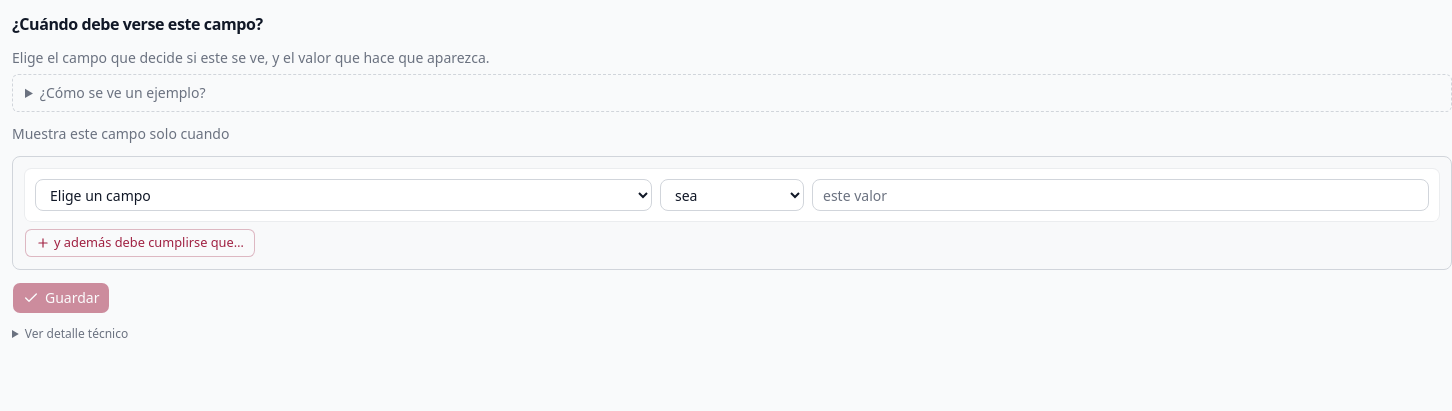
Test case: lee la regla armada como una frase, para poder comprobarla
Select "Estado" in the dropdown named "campo de la condición 1" at point(344, 195), box [35, 179, 652, 211]
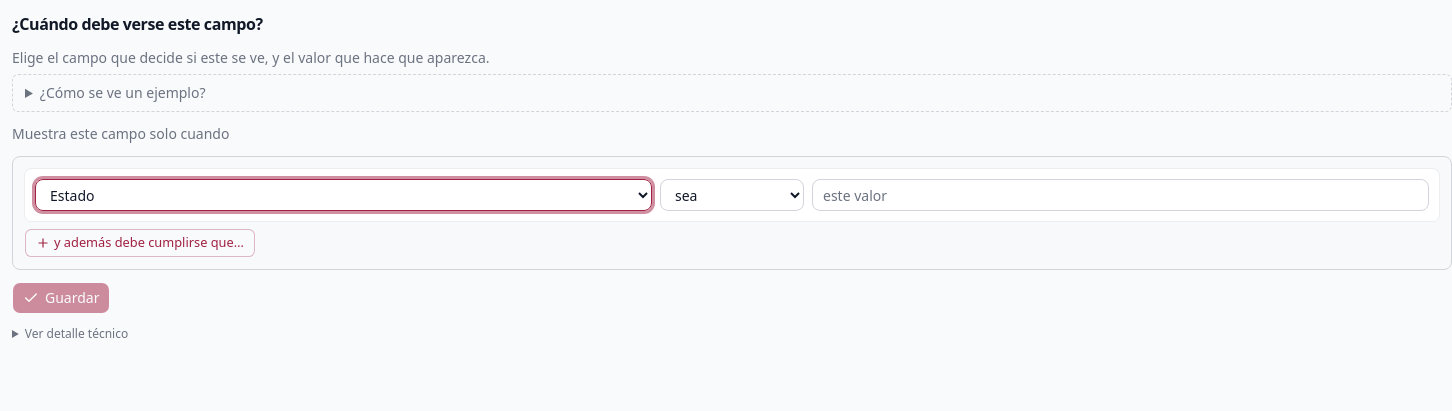
Type "Hidalgo" into the field named "valor de la condición 1".
click(1120, 195); type("Hidalgo")  # box [812, 179, 1429, 211]
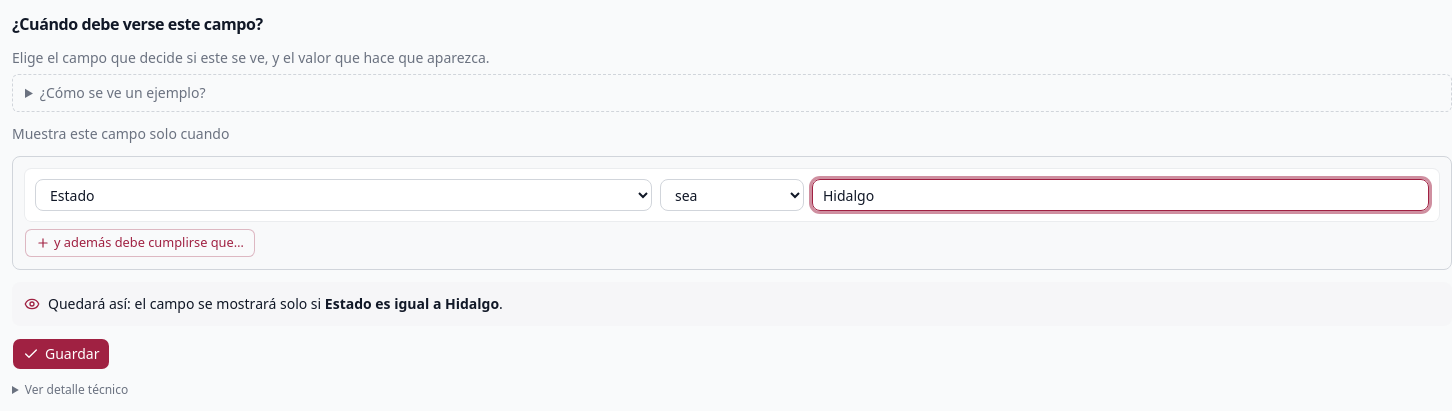
Check: the text "Estado es igual a Hidalgo" is shown, box [325, 294, 499, 313]
